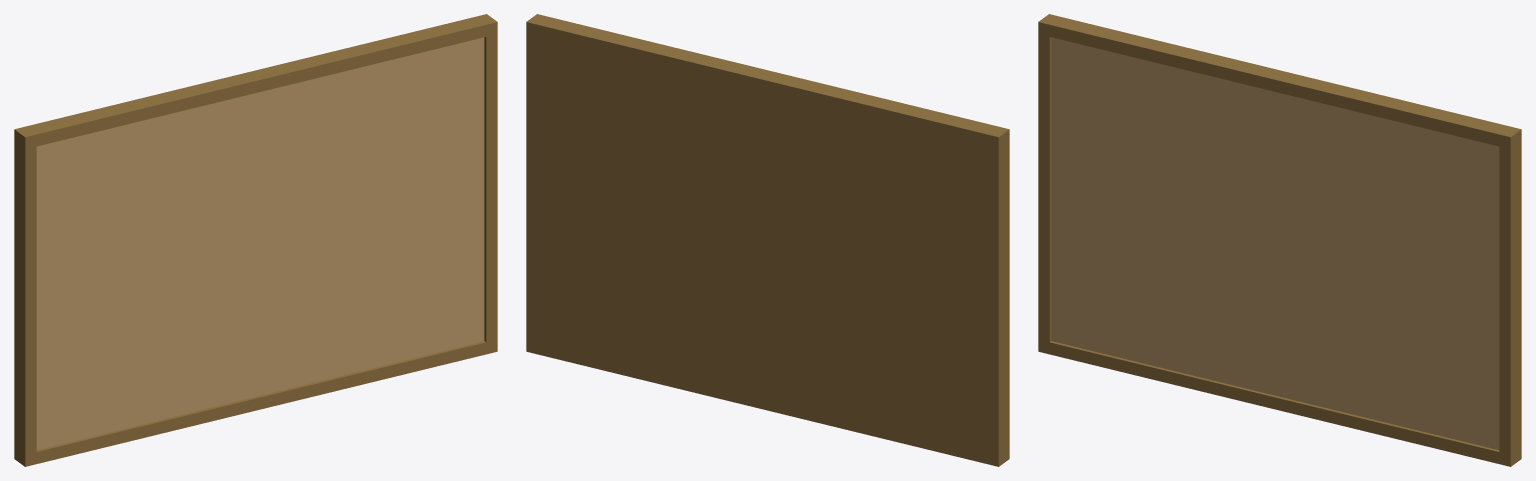
Rendered from 662_コルクボード.glb.
3 renders of one model, left to right at view 1: azimuth 30°, elevation 25°; view 2: azimuth 150°, elevation 25°; view 3: azimuth 330°, elevation 25°, orthographic.
Visible parts, largest first — view 1: Body; view 2: Body; view 3: Body.
Boxes of the visible parts, <box> form: Body: <box>14,14,497,466</box>; Body: <box>526,14,1009,466</box>; Body: <box>1038,14,1521,466</box>.
Size of the model in its own units: 0.45 by 0.3 by 0.018.
